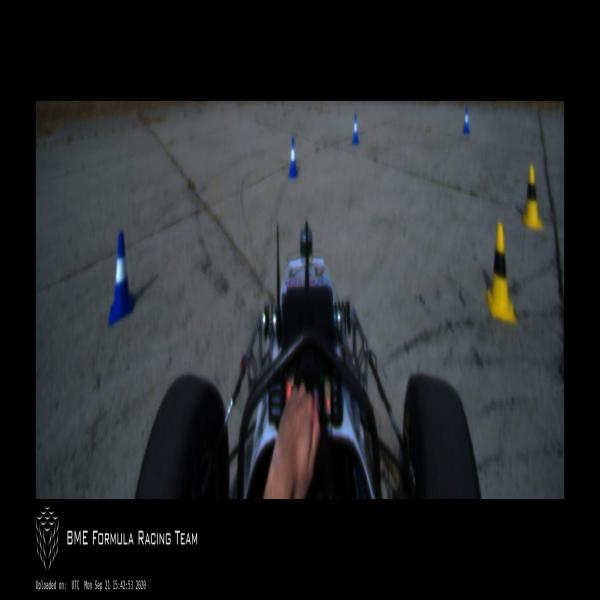blue_cone: (109, 231, 134, 326), (288, 137, 298, 177), (352, 115, 359, 145), (463, 107, 470, 134)
yellow_cone: (486, 223, 517, 322), (522, 165, 543, 228)
